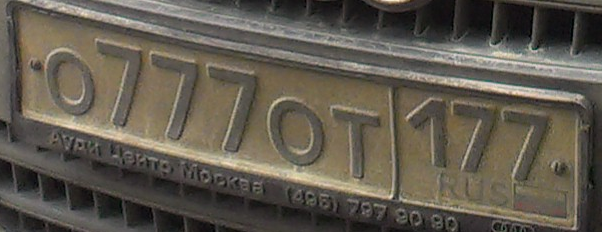character: (204, 55, 263, 165), (147, 46, 203, 151), (94, 36, 149, 136), (327, 99, 387, 190), (497, 96, 554, 189), (265, 96, 327, 175), (448, 93, 501, 179), (42, 44, 99, 123), (404, 93, 452, 176)
